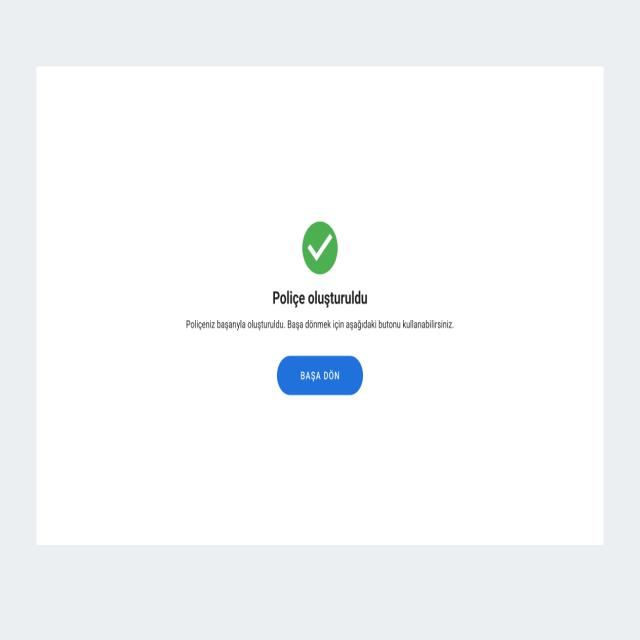QLabel: (183, 317, 455, 332), (270, 288, 369, 306), (300, 368, 341, 385)
VBtn: (276, 355, 364, 396)
VCard: (35, 67, 605, 547)
VContainer: (0, 0, 640, 640)
VImg: (299, 220, 341, 278)
